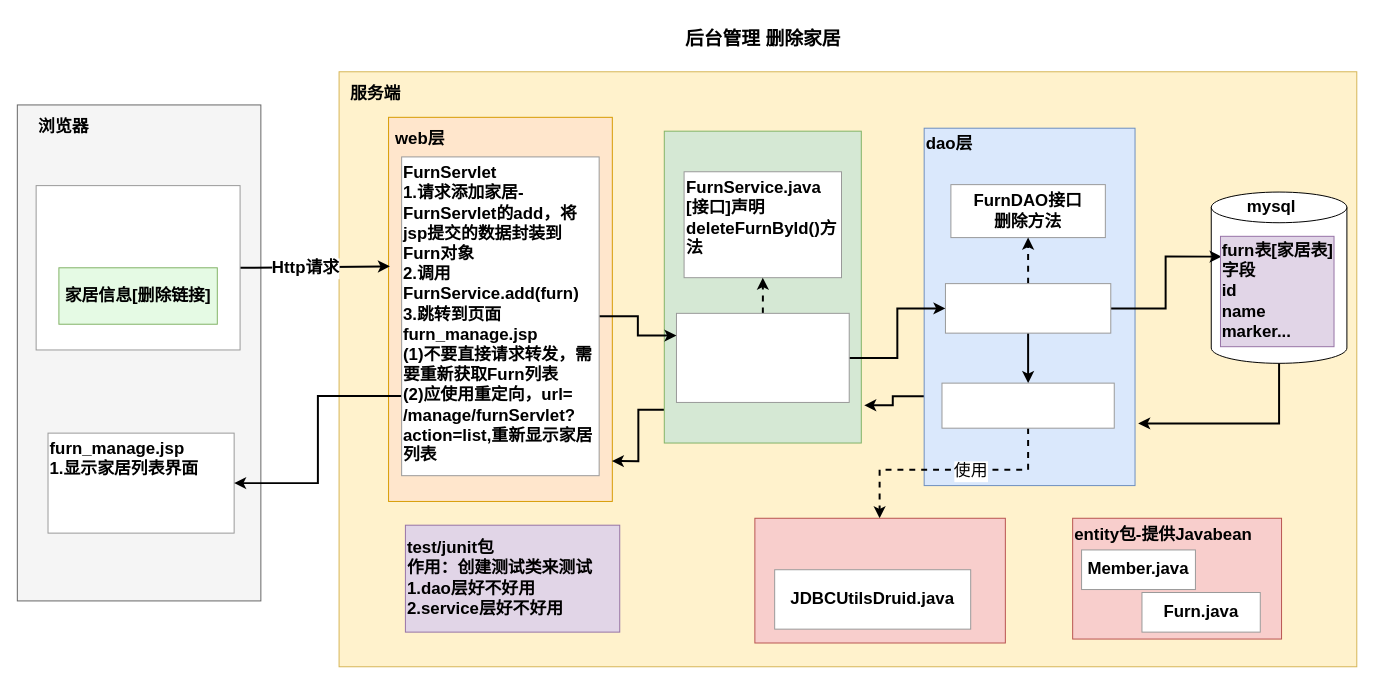
The diagram is 1374 pixels wide and 684 high, and some of its shapes have lost their labels. Each missing label, with the box of its shape:
BasicDAO[基础DAO]: (941, 382, 1114, 428)
furn_manage.jsp 1.点击删除家居链接 2.使用jquery完成弹窗确认: (35, 185, 240, 350)
FurnDAOImpl实现类 删除方法: (944, 283, 1111, 333)
FurnServiceImpl .java实现类： deleteFurnById()方法: (675, 312, 849, 402)
Service层: (663, 130, 861, 443)
utils包-提供工具类，比如德鲁伊数据连接池: (754, 517, 1005, 643)
